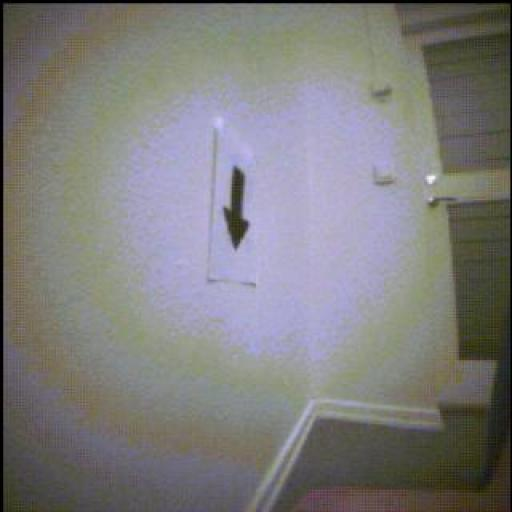arrow: (225, 168, 251, 251)
